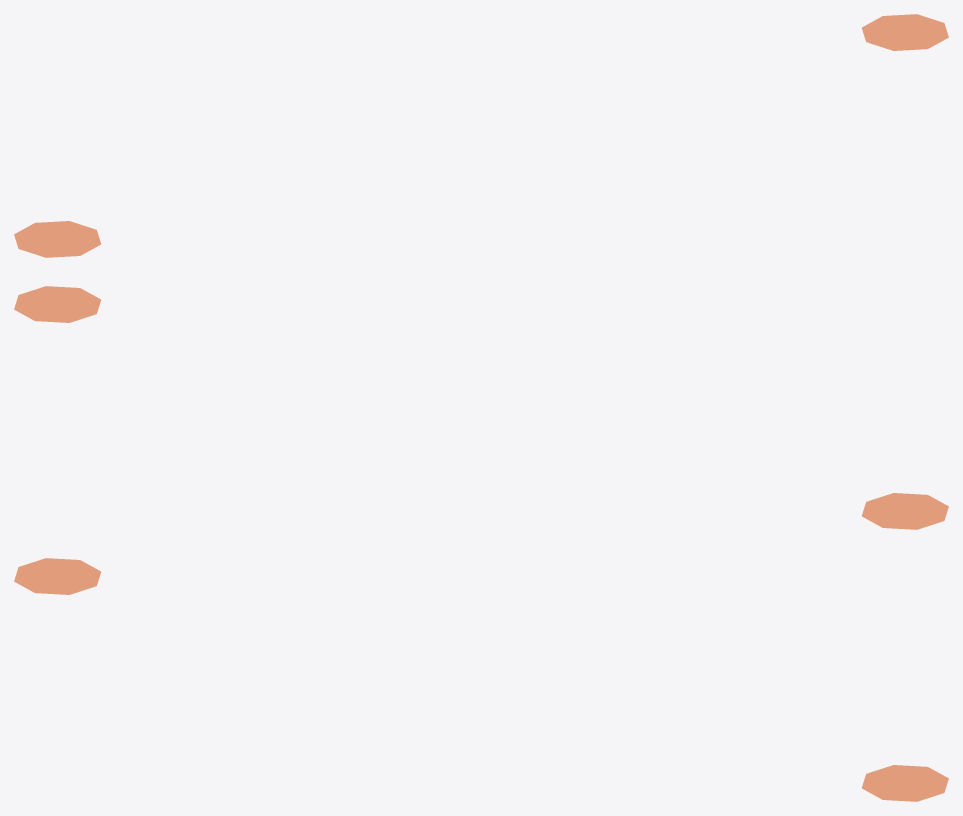
File: m_roomOfPoleDance_bar_light.fbx
3 renders of one model, top to bottom at view 1: azimuth 30°, elevation 25°; view 2: azimuth 150°, elevation 25°; view 3: azimuth 330°, elevation 25°, orthographic.
Visible parts, largest first — view 1: m_roomOfPoleDance_bar_light; view 2: m_roomOfPoleDance_bar_light; view 3: m_roomOfPoleDance_bar_light.
Boxes of the visible parts, left/top/right/bottom form: m_roomOfPoleDance_bar_light: left=14, top=14, right=948, bottom=257; m_roomOfPoleDance_bar_light: left=14, top=286, right=948, bottom=529; m_roomOfPoleDance_bar_light: left=14, top=558, right=948, bottom=801.
Bounding box in the file's own units: 63.74 × 1.19e-05 × 5.39.
